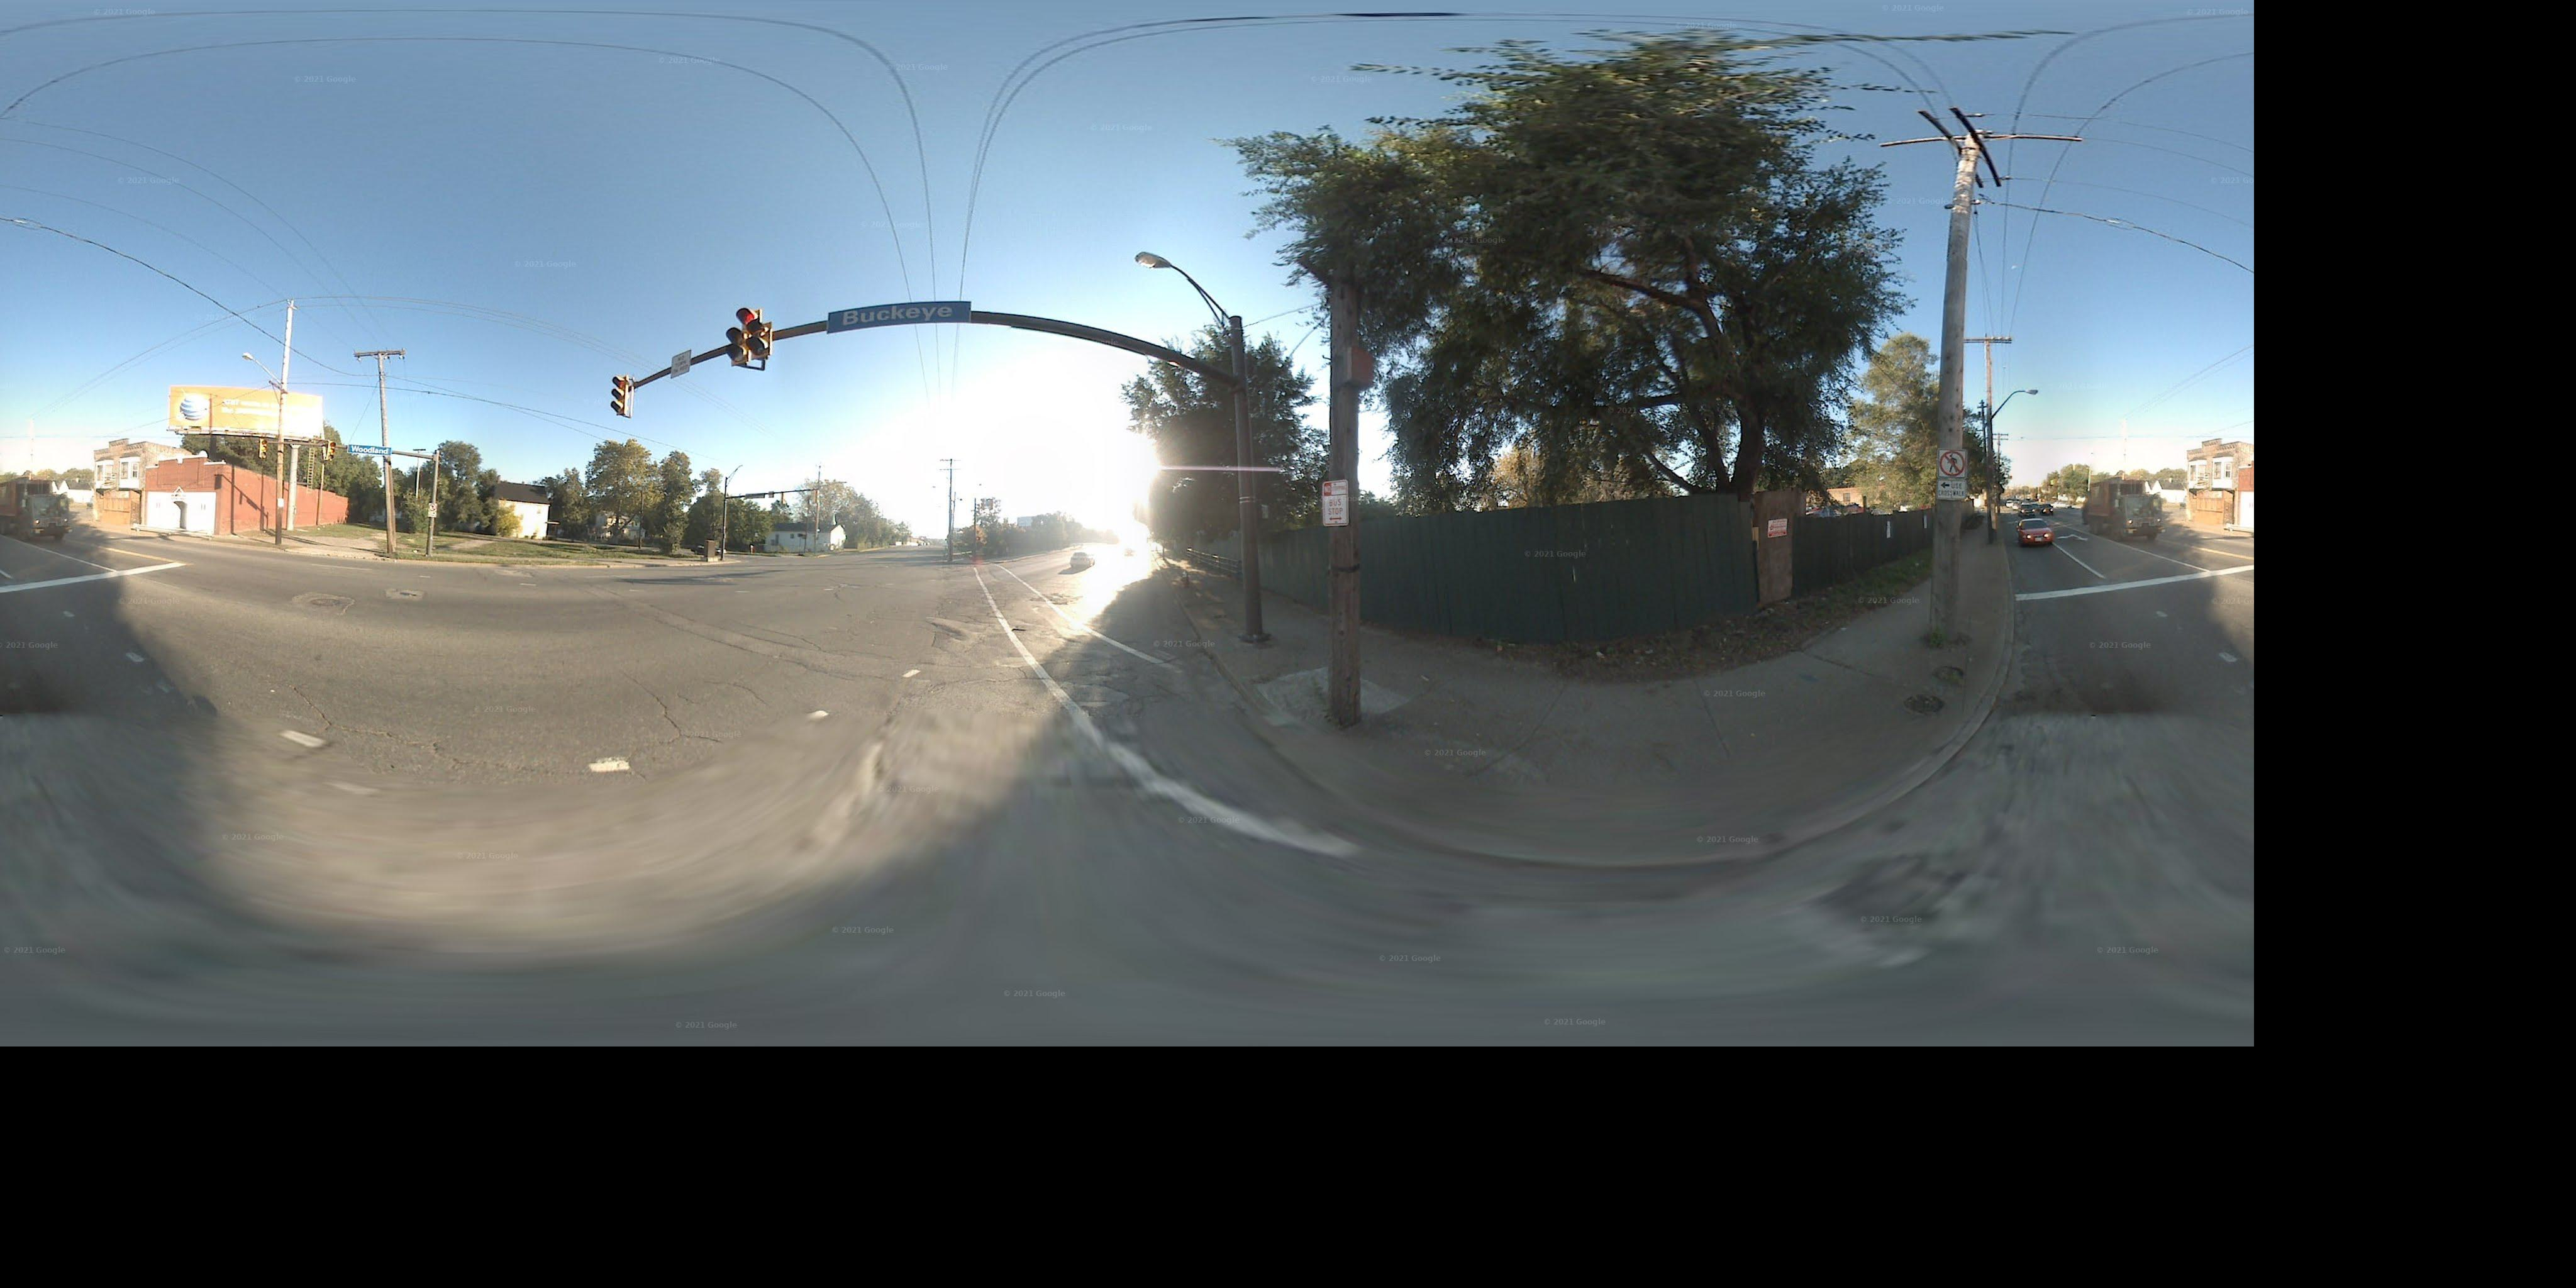Blocked Ramp: (1209, 647, 1410, 826)
